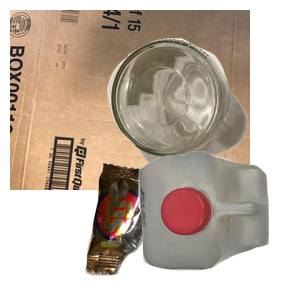cardboard: (10, 10, 250, 190)
glass: (105, 36, 300, 201)
plastic: (136, 149, 300, 300)
trash: (83, 160, 233, 300)
